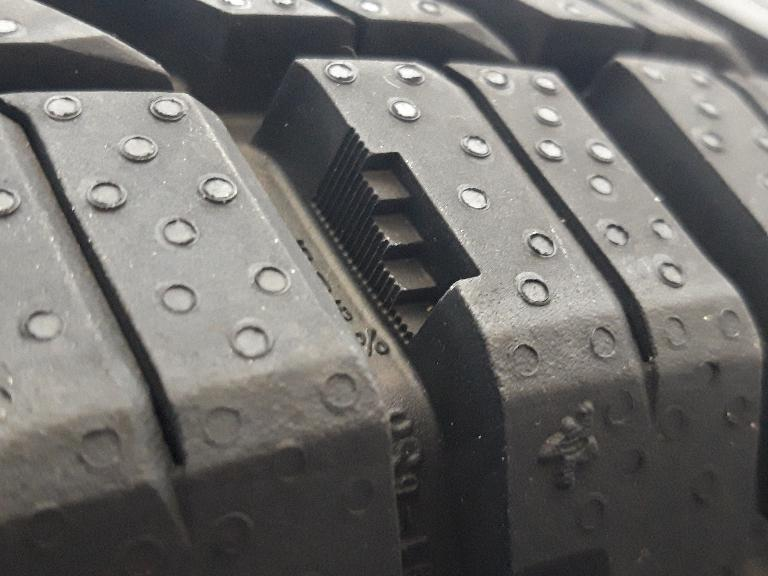temoin:100: (305, 121, 489, 352)
